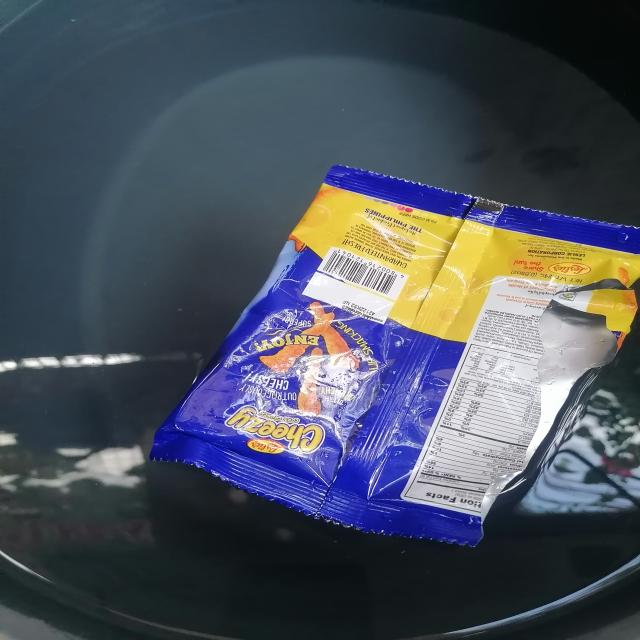Plastic Wrapper: (134, 136, 640, 565)
